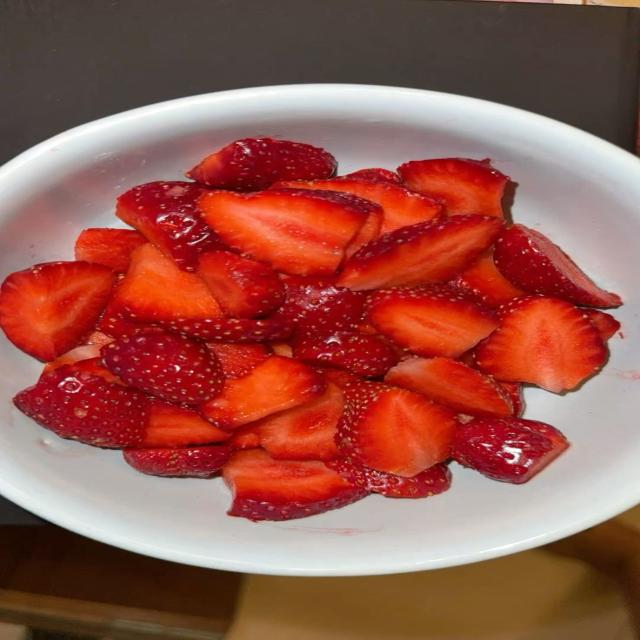strawberry sliced: (200, 189, 370, 275), (476, 297, 606, 392), (338, 216, 503, 290), (337, 382, 457, 477), (0, 262, 115, 361), (14, 366, 146, 448), (222, 449, 368, 521), (494, 225, 621, 307), (199, 356, 326, 430), (116, 182, 222, 270), (276, 178, 442, 233), (369, 287, 499, 357), (107, 244, 221, 322), (102, 331, 225, 403), (273, 180, 383, 257), (187, 138, 336, 190), (385, 358, 513, 417), (452, 418, 568, 483), (255, 382, 344, 459), (398, 159, 509, 217), (198, 252, 284, 318), (276, 277, 365, 336), (325, 459, 451, 498), (294, 332, 398, 377), (138, 398, 228, 448), (453, 249, 524, 308), (162, 316, 294, 342), (123, 446, 231, 477), (75, 229, 146, 272), (98, 299, 160, 339), (207, 341, 270, 378), (44, 343, 107, 372), (73, 357, 126, 386), (582, 309, 620, 342), (340, 168, 401, 184), (499, 381, 525, 417), (227, 421, 260, 449), (323, 368, 365, 389), (83, 330, 113, 344), (270, 342, 293, 357)
